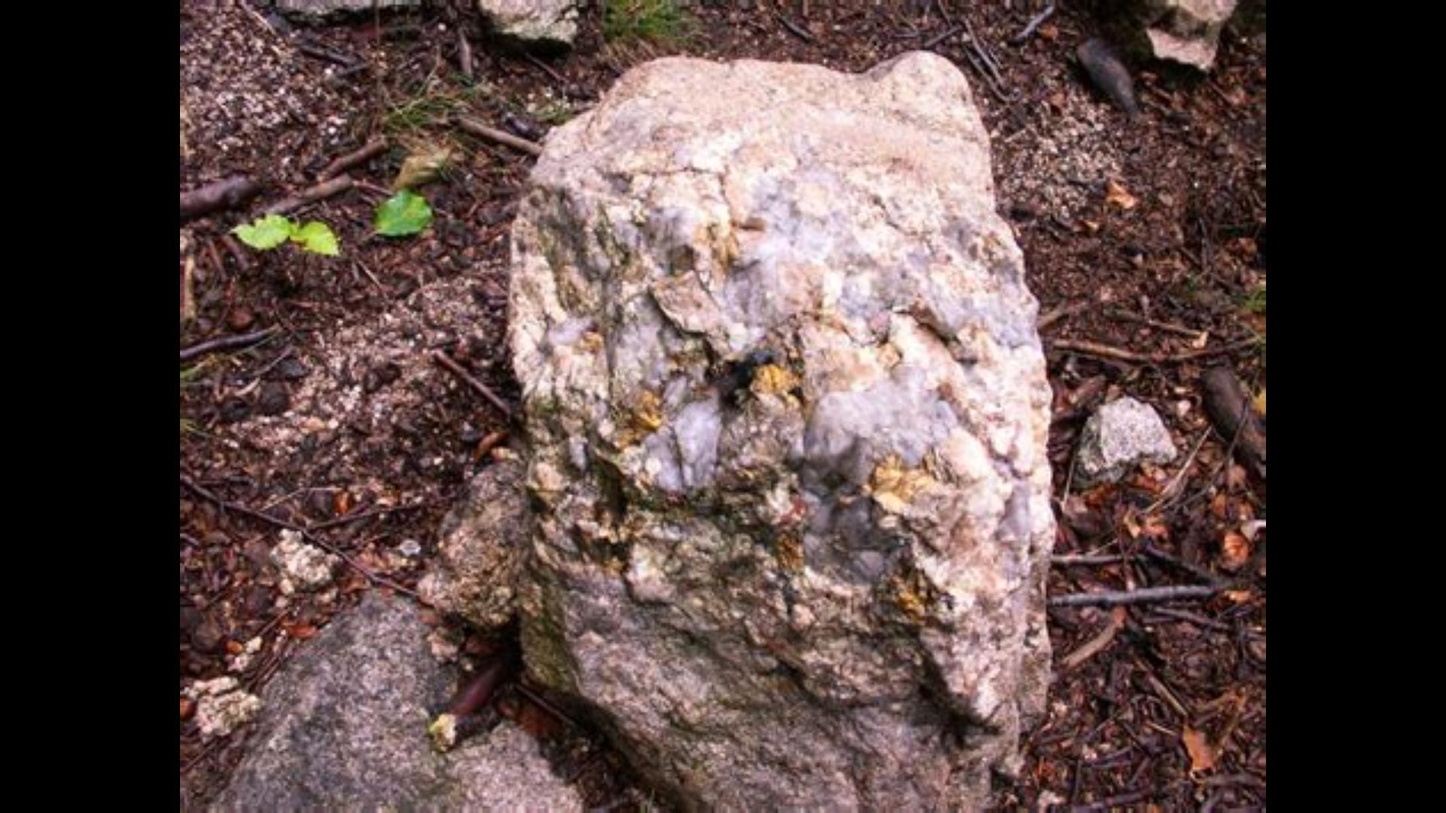rock: (519, 53, 1051, 806)
